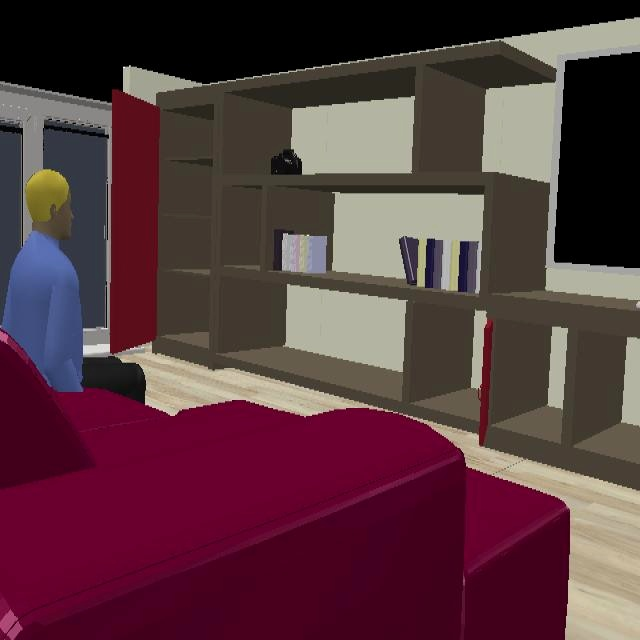book: (399, 236, 480, 295), (274, 229, 331, 275)
bookshelf: (109, 17, 640, 640)
monitor: (548, 52, 640, 300)
person: (1, 169, 146, 404)
sofa: (0, 331, 569, 640)
